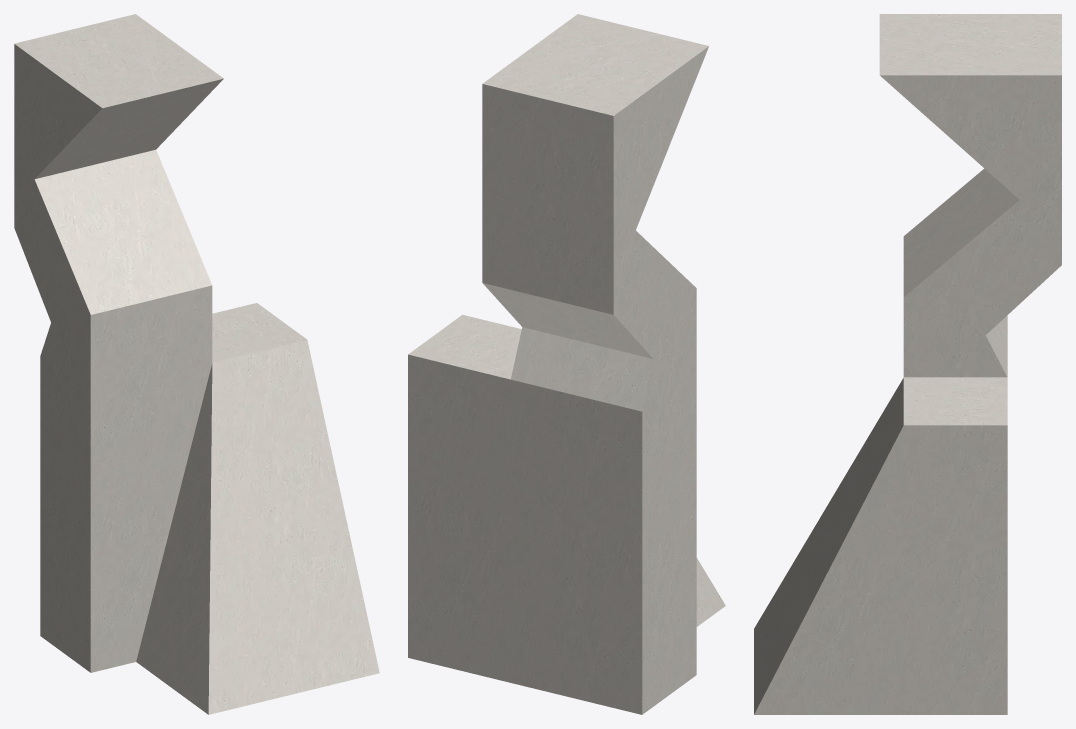
Rendered from strelec_bila.glb.
The picture shows the model from 3 angles, left to right: view 1: azimuth 30°, elevation 25°; view 2: azimuth 150°, elevation 25°; view 3: azimuth 270°, elevation 25°; orthographic projection. The views are drawn at different scales.
Parts seen in each view (by area): view 1: strelec_bila; view 2: strelec_bila; view 3: strelec_bila.
Part boxes in pixels (x1=…): strelec_bila: x1=14, y1=14, x2=379, y2=714; strelec_bila: x1=408, y1=14, x2=725, y2=714; strelec_bila: x1=754, y1=14, x2=1061, y2=714.
Bounding box in the file's own units: 0.0379 × 0.096 × 0.0453.
Materials: 1 (1 with a texture image).
